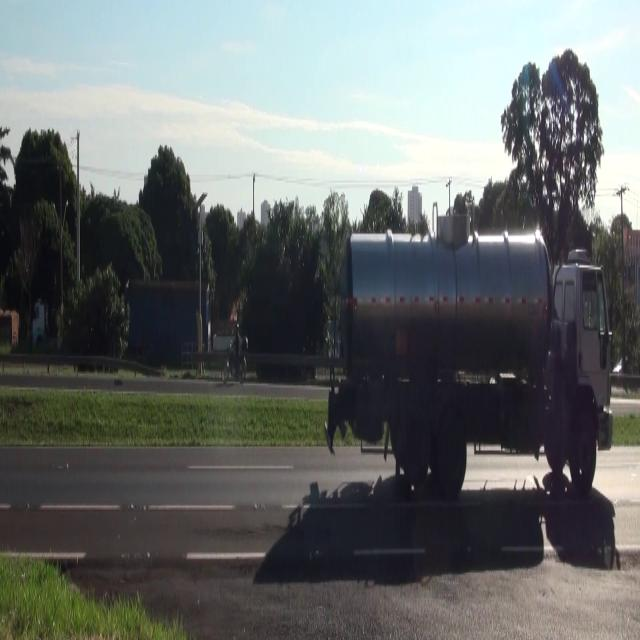-axle: (430, 404, 468, 496), (566, 405, 602, 490), (394, 397, 429, 481)
